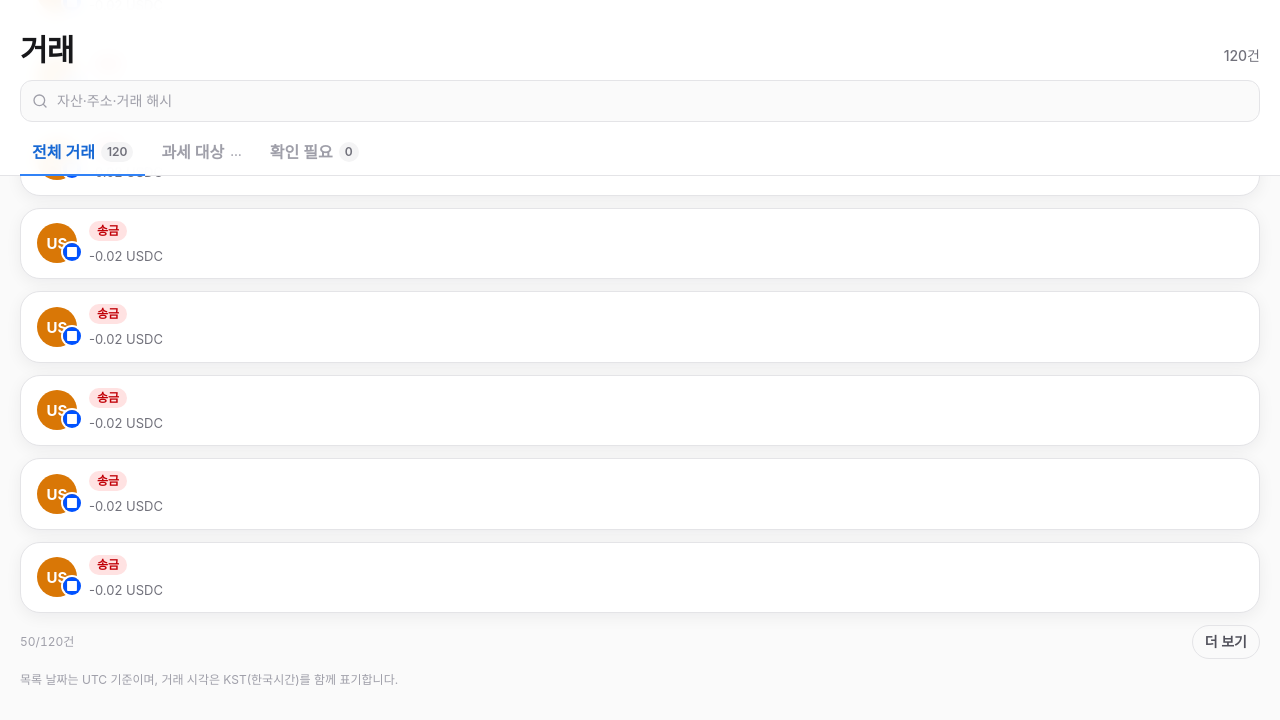
Scenario: 창을 되돌리는 것은 목록의 정체뿐이다 › 배경 갱신으로 배열이 새로 와도 창은 접히지 않는다
This screenshot has width=1280, height=720.
(page scrolled)
Click the button "더 보기": click(1226, 642) [1192, 625, 1260, 659]
(page scrolled)
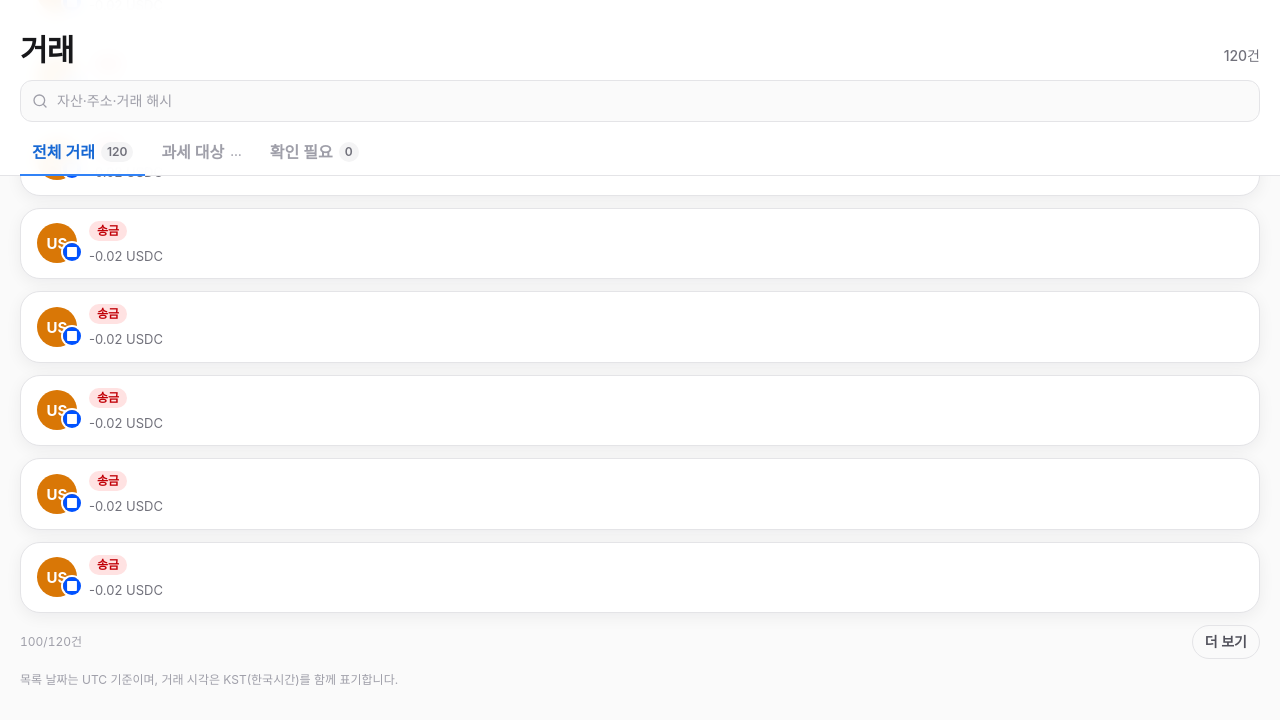
Now the element showing "100/120건 더 보기" is shown, box [20, 625, 1260, 659]
